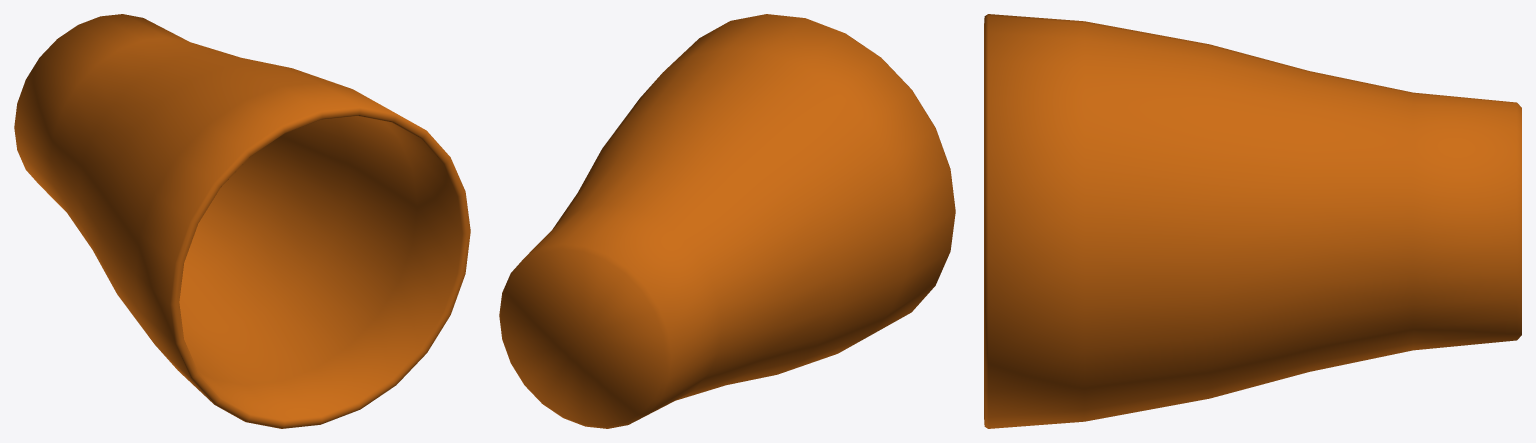
Rendered from MeshCup_7_0_GeomSubset_0.obj.
3 views of the same model, side by side, from view 1: azimuth 30°, elevation 25°; view 2: azimuth 150°, elevation 25°; view 3: azimuth 270°, elevation 25° (orthographic). The views are drawn at different scales.
Parts seen in each view (by area): view 1: MeshCup_7_0_GeomSubset_0; view 2: MeshCup_7_0_GeomSubset_0; view 3: MeshCup_7_0_GeomSubset_0.
Boxes of the visible parts, <box> form: MeshCup_7_0_GeomSubset_0: <box>14,14,470,428</box>; MeshCup_7_0_GeomSubset_0: <box>499,14,955,428</box>; MeshCup_7_0_GeomSubset_0: <box>984,14,1521,428</box>.
Size of the model in its own units: 0.1045 by 0.1045 by 0.1349.
